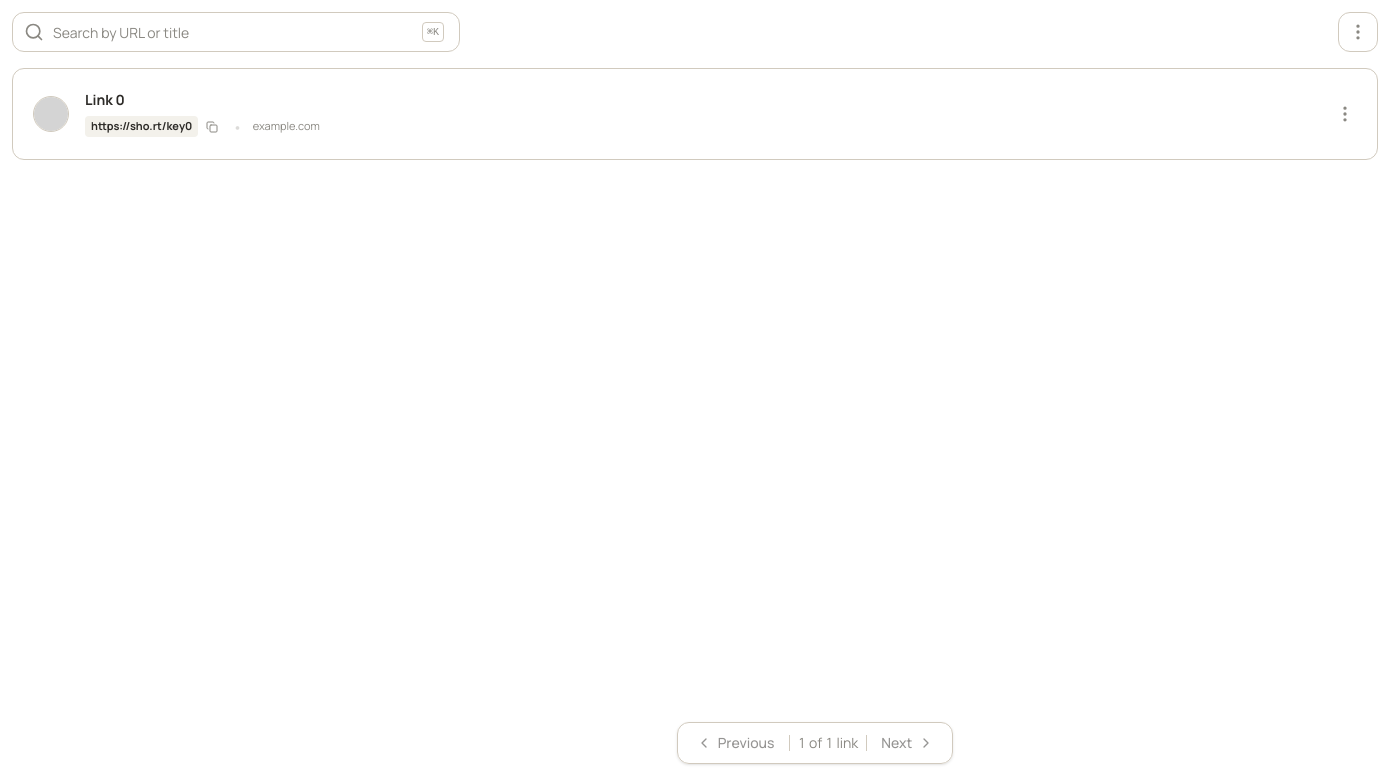
Test case: links page › search › says nothing matched when a search returns no links
Check: the heading "Link 0" is shown, box [85,90,125,109]
Type "zzz" into the field with placeholder "Search by URL or title" at (236,32), box [12,12,460,52]
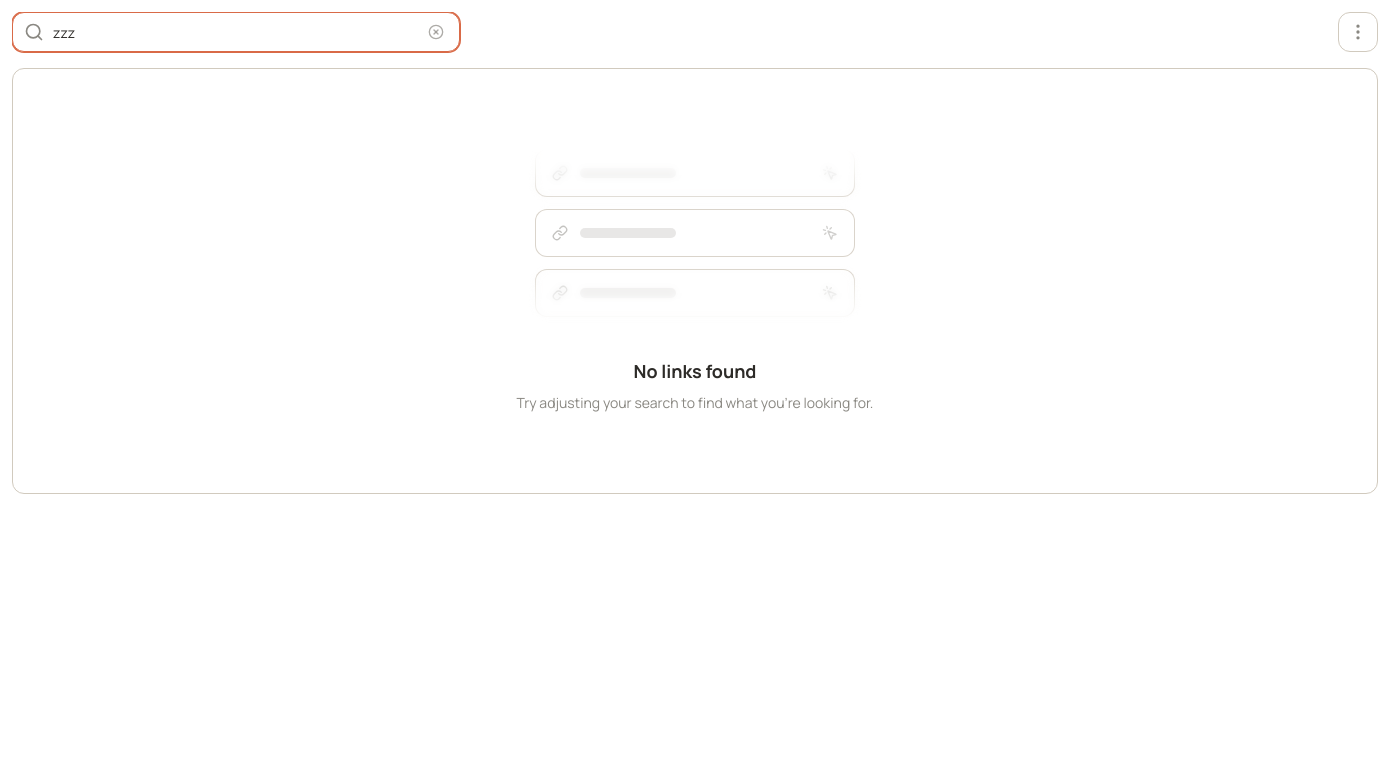
Check: the heading "No links found" is shown, box [634,357,756,385]
